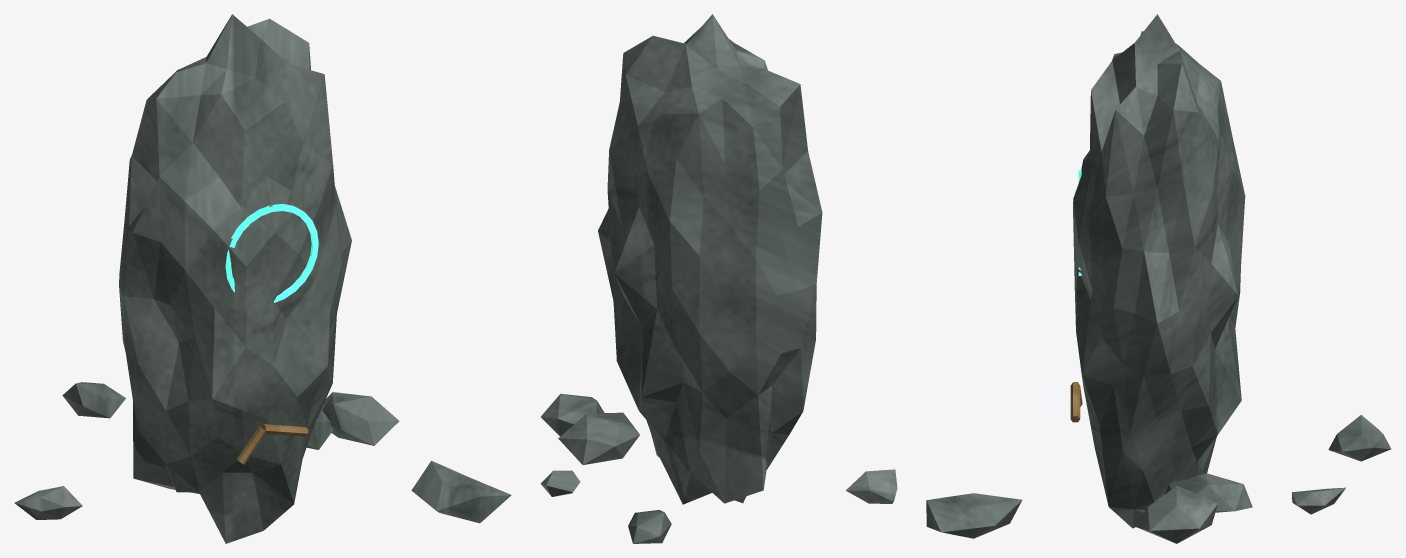
File: 0659_waystone_09.glb
3 views of the same model, side by side, from view 1: azimuth 30°, elevation 25°; view 2: azimuth 150°, elevation 25°; view 3: azimuth 270°, elevation 25° (orthographic). The views are drawn at different scales.
Visible parts, largest first — view 1: stone, glow, brass; view 2: stone; view 3: stone.
Boxes of the visible parts, x1,y1,x2,y2 form: stone: (14, 14, 511, 543); glow: (225, 204, 318, 302); brass: (237, 424, 307, 464); stone: (540, 14, 897, 543); stone: (926, 14, 1391, 543).
Size of the model in its own units: 1.76 by 2.33 by 1.93.
3 materials, 3 textured.
